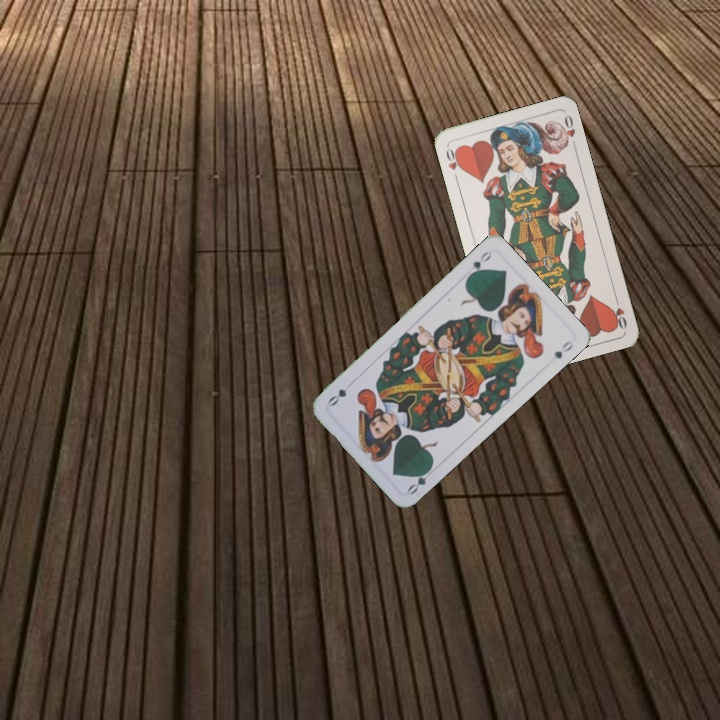GO: (403, 462, 438, 497), (464, 247, 495, 280)
HO: (442, 143, 465, 182), (608, 292, 629, 332)
